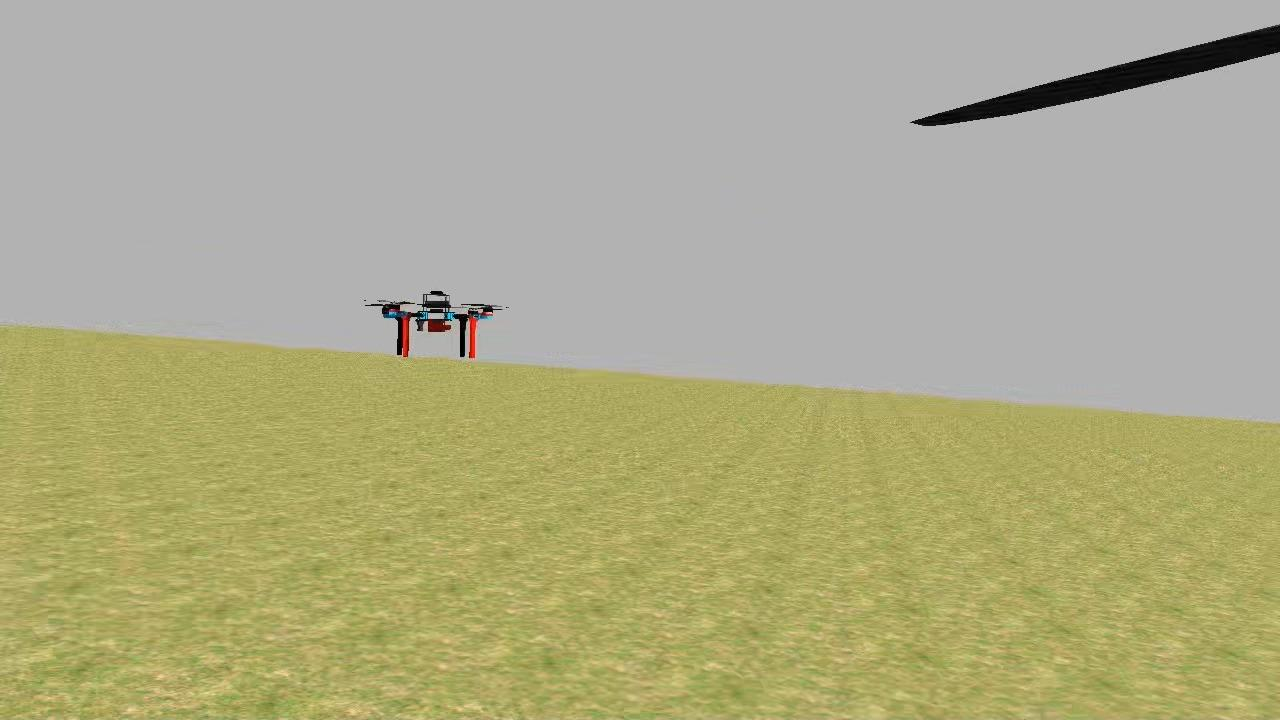UAV: (376, 286, 497, 374)
